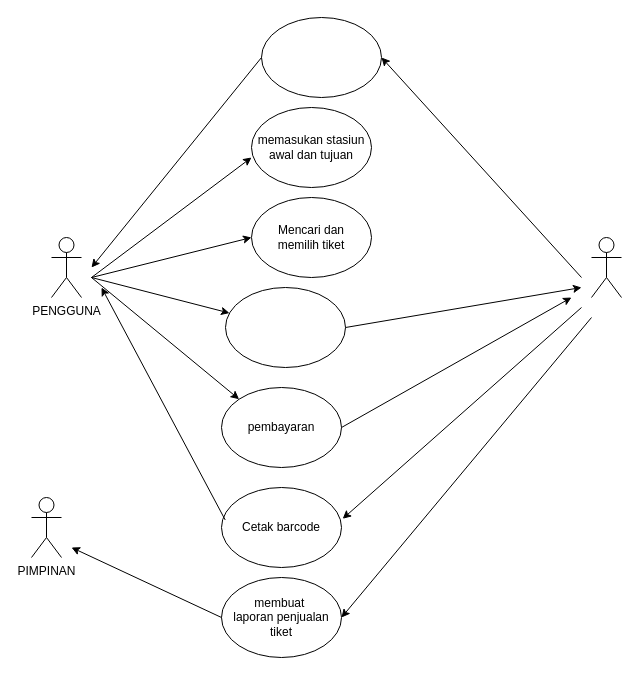
Image size: 643x675. Some labels were removed from this diagram. The centre of each missing label's shape, as x and y in pixels:
ADMIN: the point at 606,267
Memasukan data kereta: the point at 321,57
memasukan data pengguna: the point at 285,327
